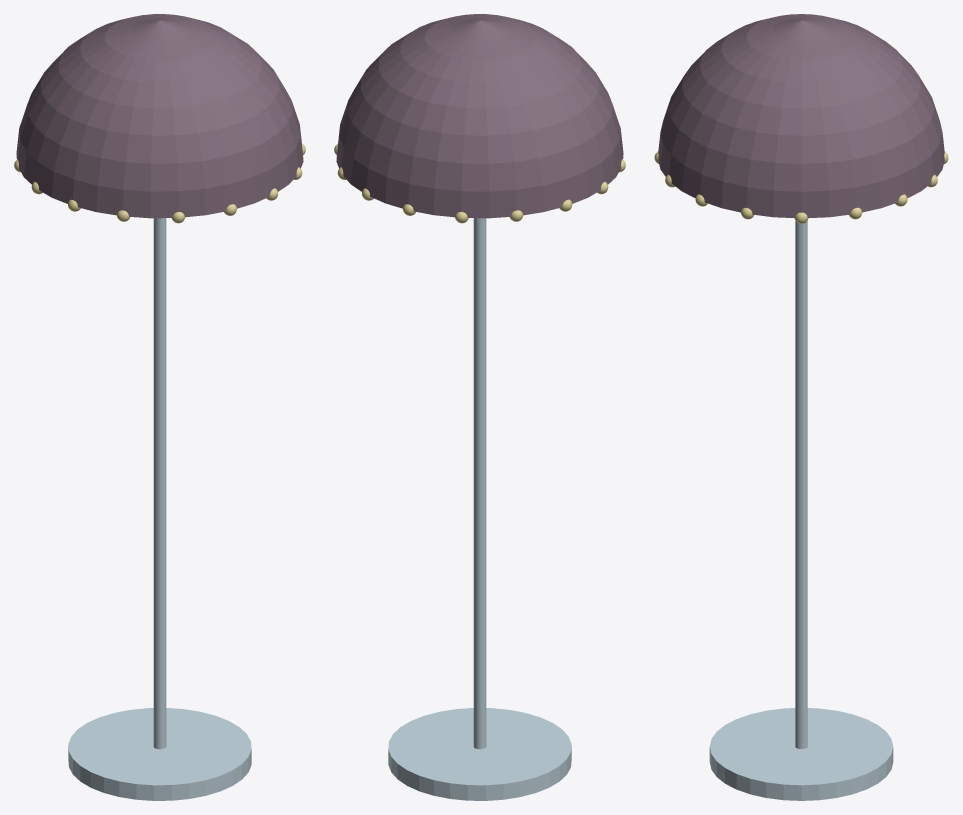
File: fjsw_floorlamp.gltf
3 renders of one model, left to right at view 1: azimuth 30°, elevation 25°; view 2: azimuth 150°, elevation 25°; view 3: azimuth 270°, elevation 25°, orthographic.
Visible parts, largest first — view 1: Sphere.001, Cylinder, Sphere.009; view 2: Sphere.001, Cylinder, Sphere.009; view 3: Sphere.001, Cylinder, Sphere.009.
Part boxes in pixels (box(x1,y1,x2,y2)): Sphere.001: box(16, 14, 303, 218); Cylinder: box(68, 218, 251, 800); Sphere.009: box(14, 144, 305, 223); Sphere.001: box(336, 14, 623, 218); Cylinder: box(388, 218, 571, 800); Sphere.009: box(334, 144, 625, 223); Sphere.001: box(658, 14, 944, 218); Cylinder: box(709, 220, 893, 800); Sphere.009: box(654, 152, 948, 223).
Size of the model in its own units: 0.6954 by 1.94 by 0.6952.
